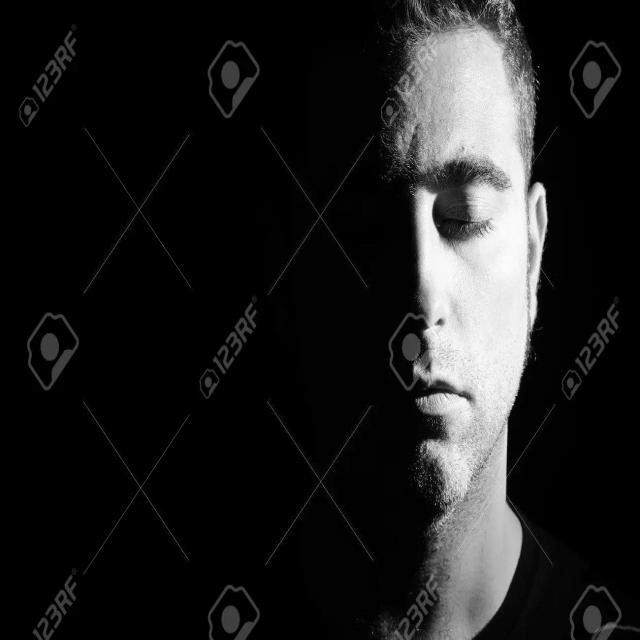real: (334, 0, 552, 517), (351, 164, 512, 274)
